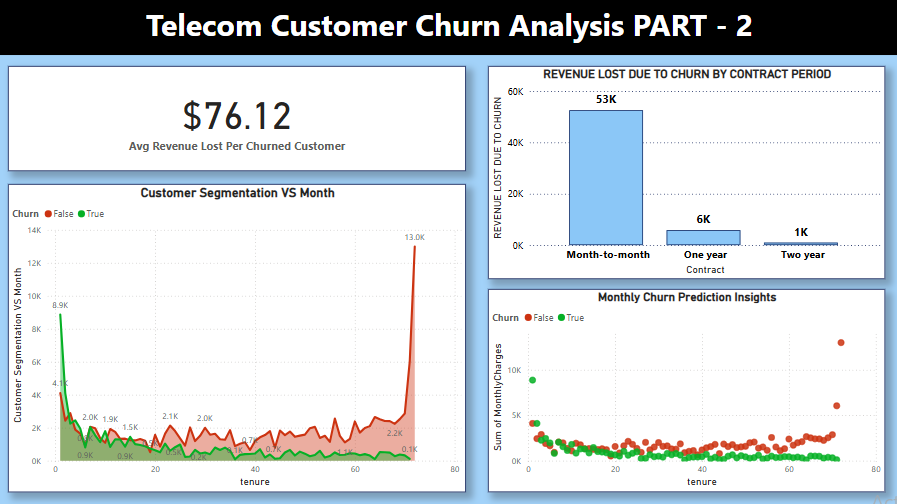

This screenshot's page, from the dashboard's own definition file:
{"tool":"powerbi","page":{"name":"PART 2","canvas":[1280,720],"ordinal":1},"visuals":[{"type":"textbox","box":[0,0,1280.2,77.8],"z":0},{"type":"columnChart","title":"REVENUE LOST DUE TO CHURN BY CONTRACT PERIOD","fields":{"Category":["telco_churn.Contract"],"Y":["telco_churn.REVENUE LOST DUE TO CHURN"]},"box":[694.5,93.5,562.7,301.9],"z":1},{"type":"card","fields":{"Values":["telco_churn.Avg Revenue Lost Per Churned Customer"]},"box":[14.2,93.5,649.1,148.8],"z":2},{"type":"areaChart","title":"Customer Segmentation VS Month","fields":{"Category":["telco_churn.tenure"],"Y":["Sum(telco_churn.MonthlyCharges)"],"Series":["telco_churn.Churn"]},"box":[14.2,260.8,649.1,436.5],"z":3},{"type":"scatterChart","title":"Monthly Churn Prediction Insights","fields":{"X":["telco_churn.tenure"],"Y":["Sum(telco_churn.MonthlyCharges)"],"Series":["telco_churn.Churn"]},"box":[694.5,409.6,562.7,287.7],"z":4}]}

Visuals, with their boxes in screenshot pixels (x1, y1, x2, y2), scaled from the page's 1280x720 canvas onto the 897x504 screenshot:
textbox: 0, 0, 896, 54
"REVENUE LOST DUE TO CHURN BY CONTRACT PERIOD" columnChart: 487, 65, 881, 277
card - telco_churn.Avg Revenue Lost Per Churned Customer: 10, 65, 465, 170
"Customer Segmentation VS Month" areaChart: 10, 183, 465, 488
"Monthly Churn Prediction Insights" scatterChart: 487, 287, 881, 488
